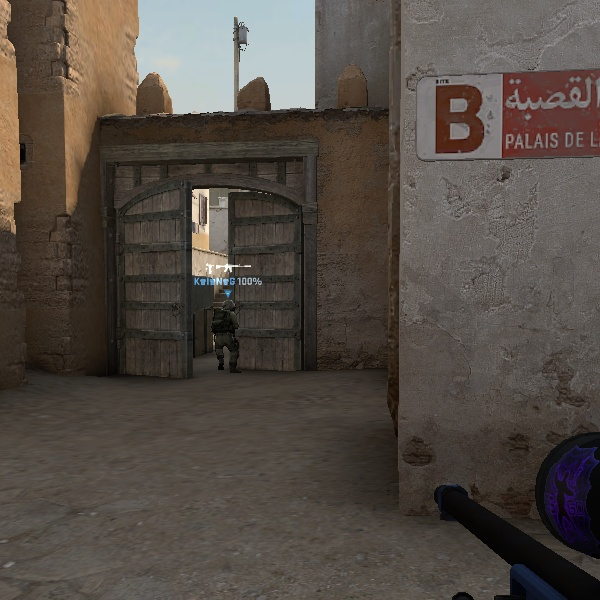ct_body: (210, 299, 246, 374)
ct_head: (222, 299, 236, 314)
